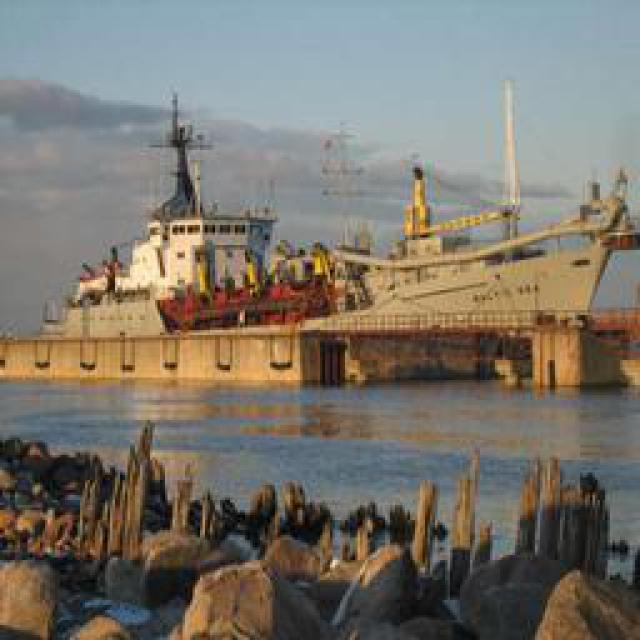Ship: (40, 88, 633, 393)
